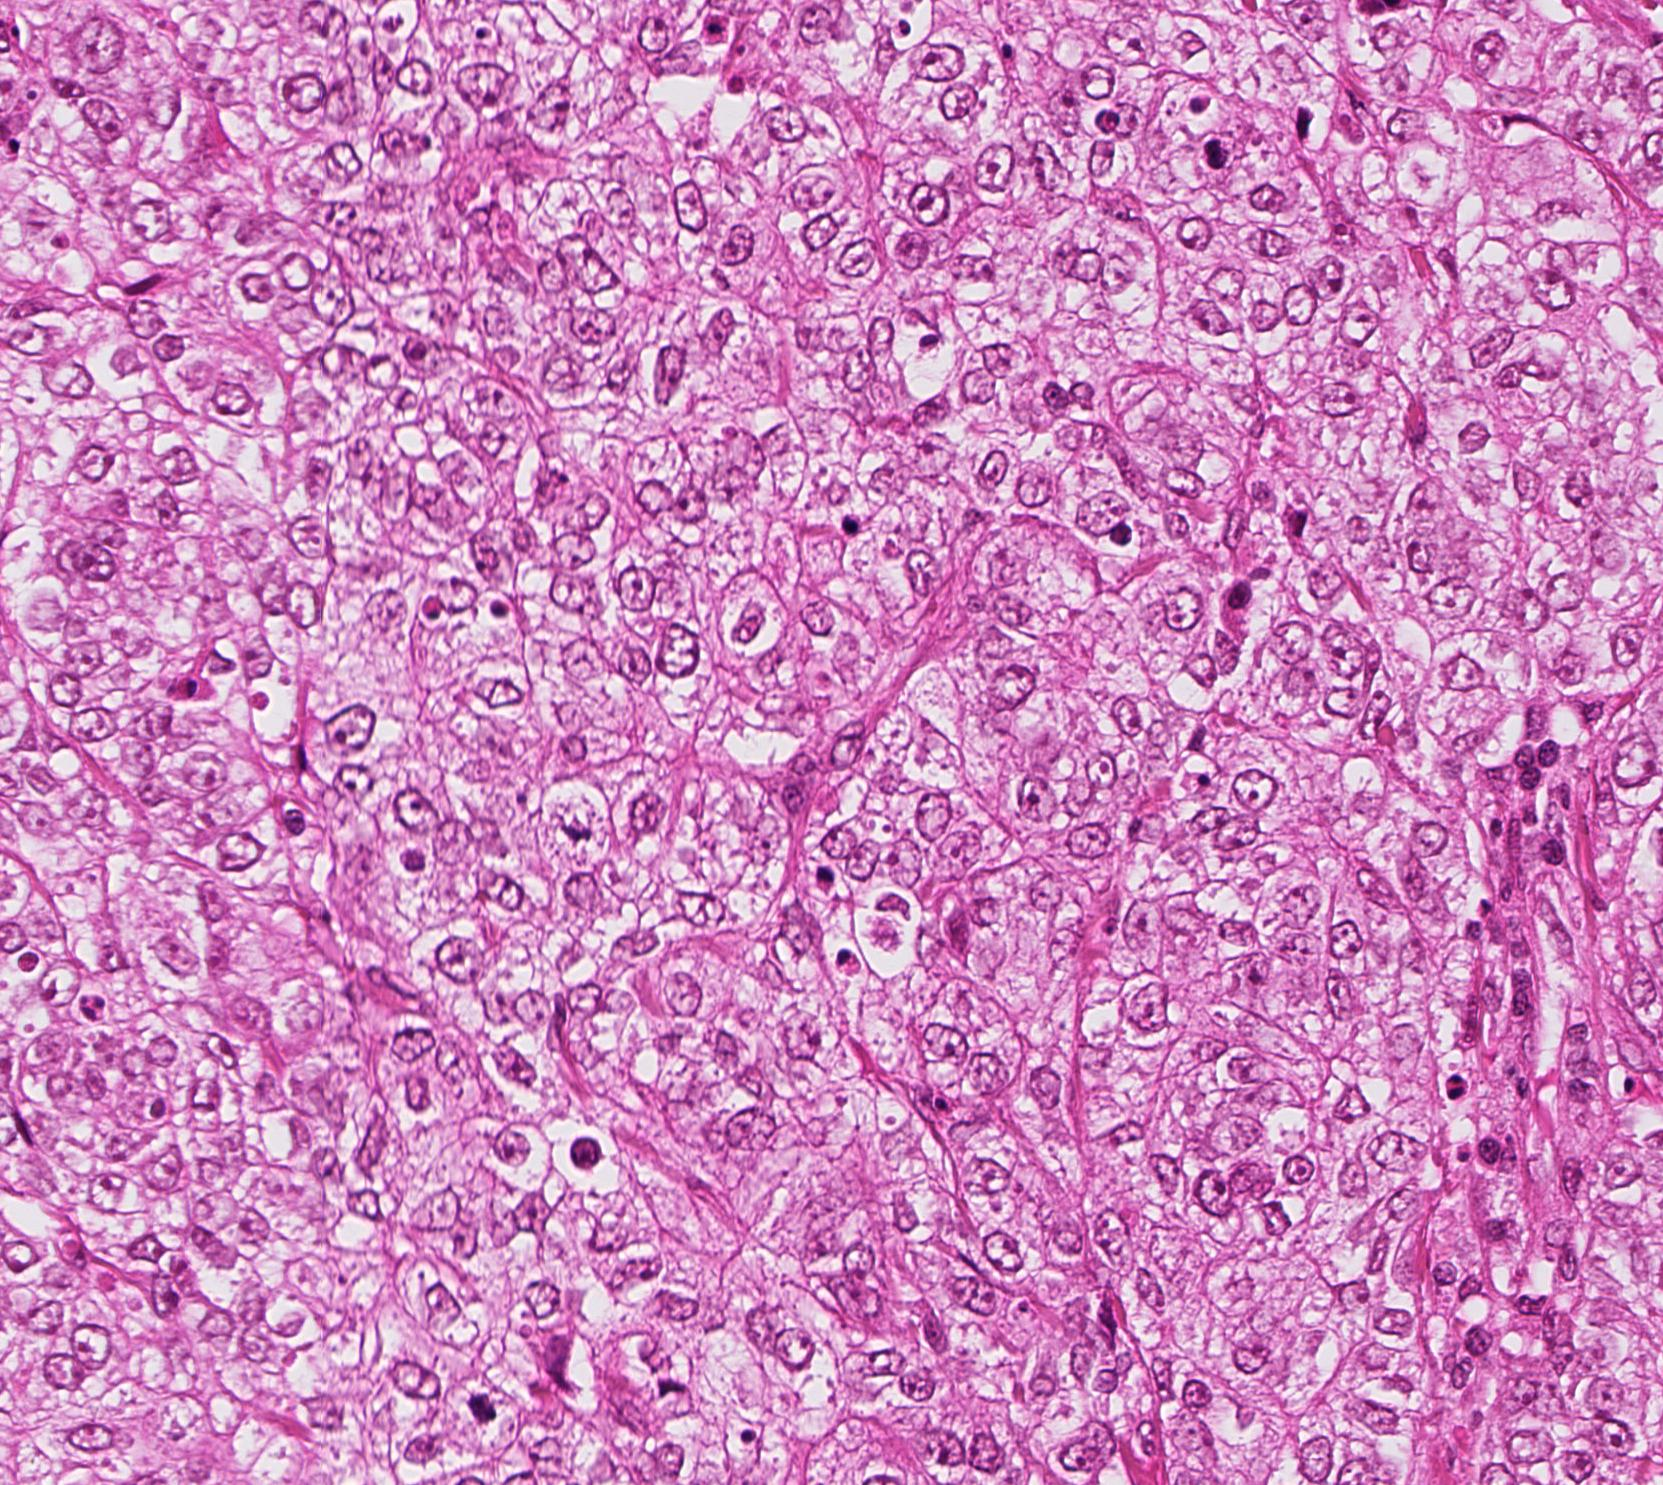mitosis: (449, 1370, 509, 1431), (1184, 122, 1244, 182)
